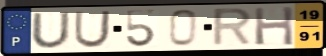0: (167, 7, 202, 48)
5: (124, 8, 161, 49)
H: (252, 5, 296, 47)
R: (210, 6, 255, 48)
U: (30, 11, 73, 50), (72, 10, 113, 50)
